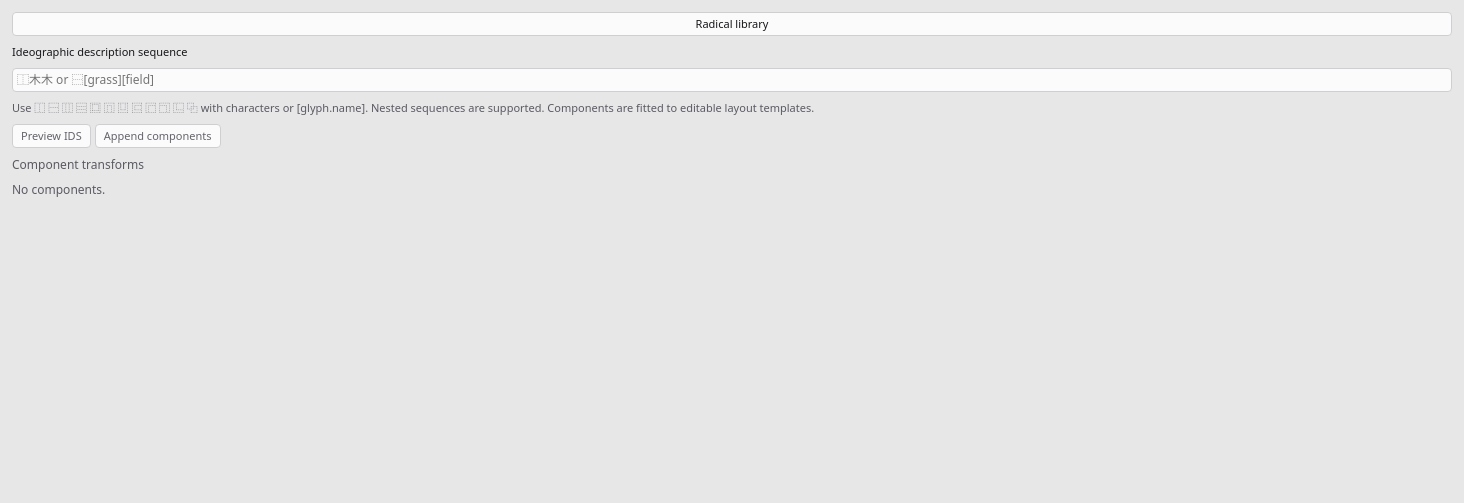
Test: CJK construction panel › reports a refused command and reloads the actual layer
In the field labelled "Ideographic description sequence": (732, 80) [12,68,1452,92], type "木"
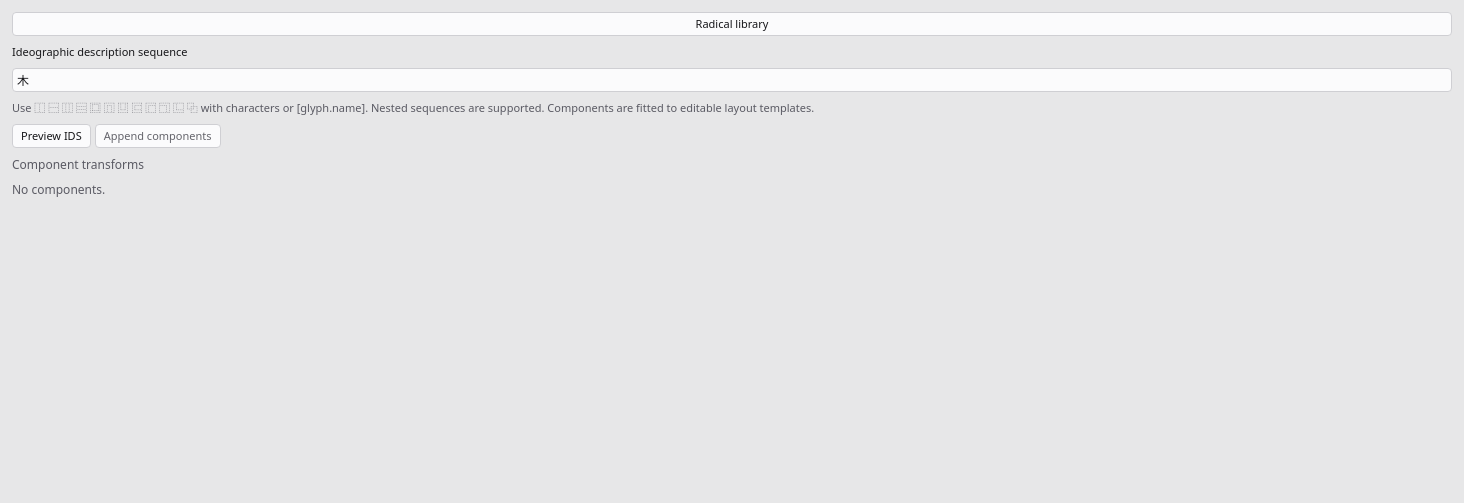
Click the button "Preview IDS": (51, 136) [12,124,91,148]
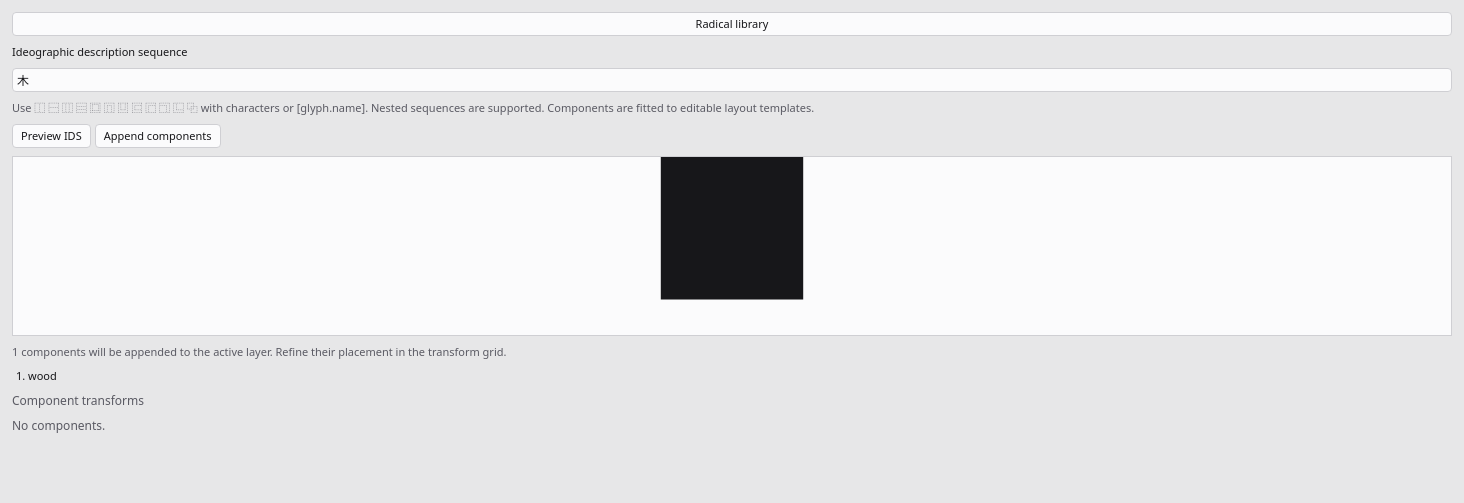
Click the button "Append components": (158, 136) [95,124,221,148]
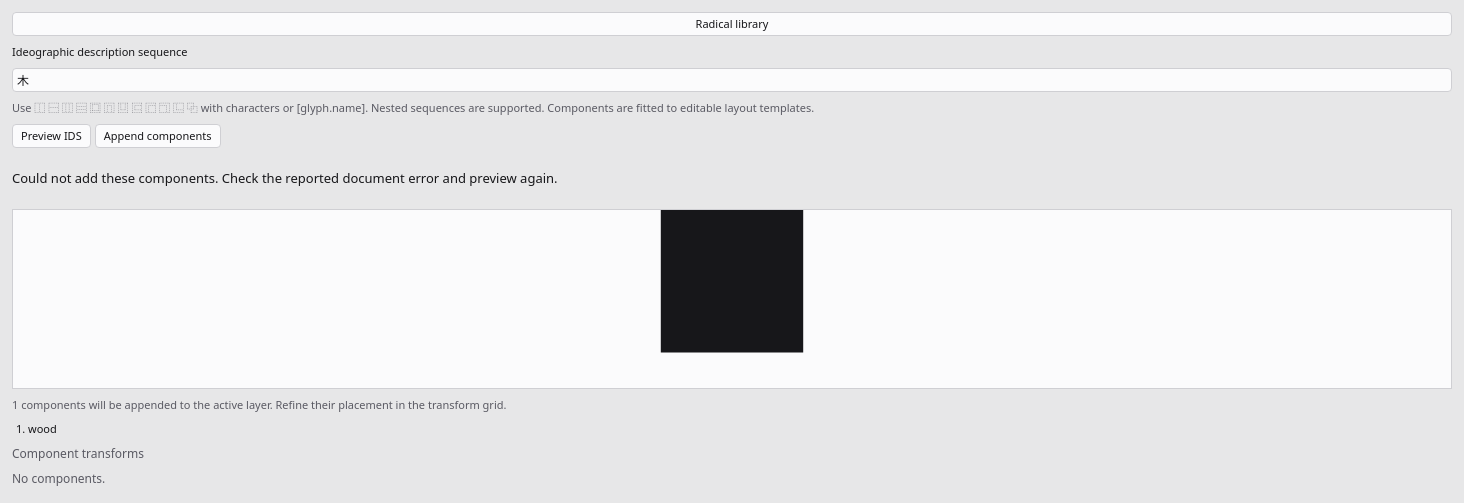
Expected: the message shows "Could not add these components", [12,169,558,187]
